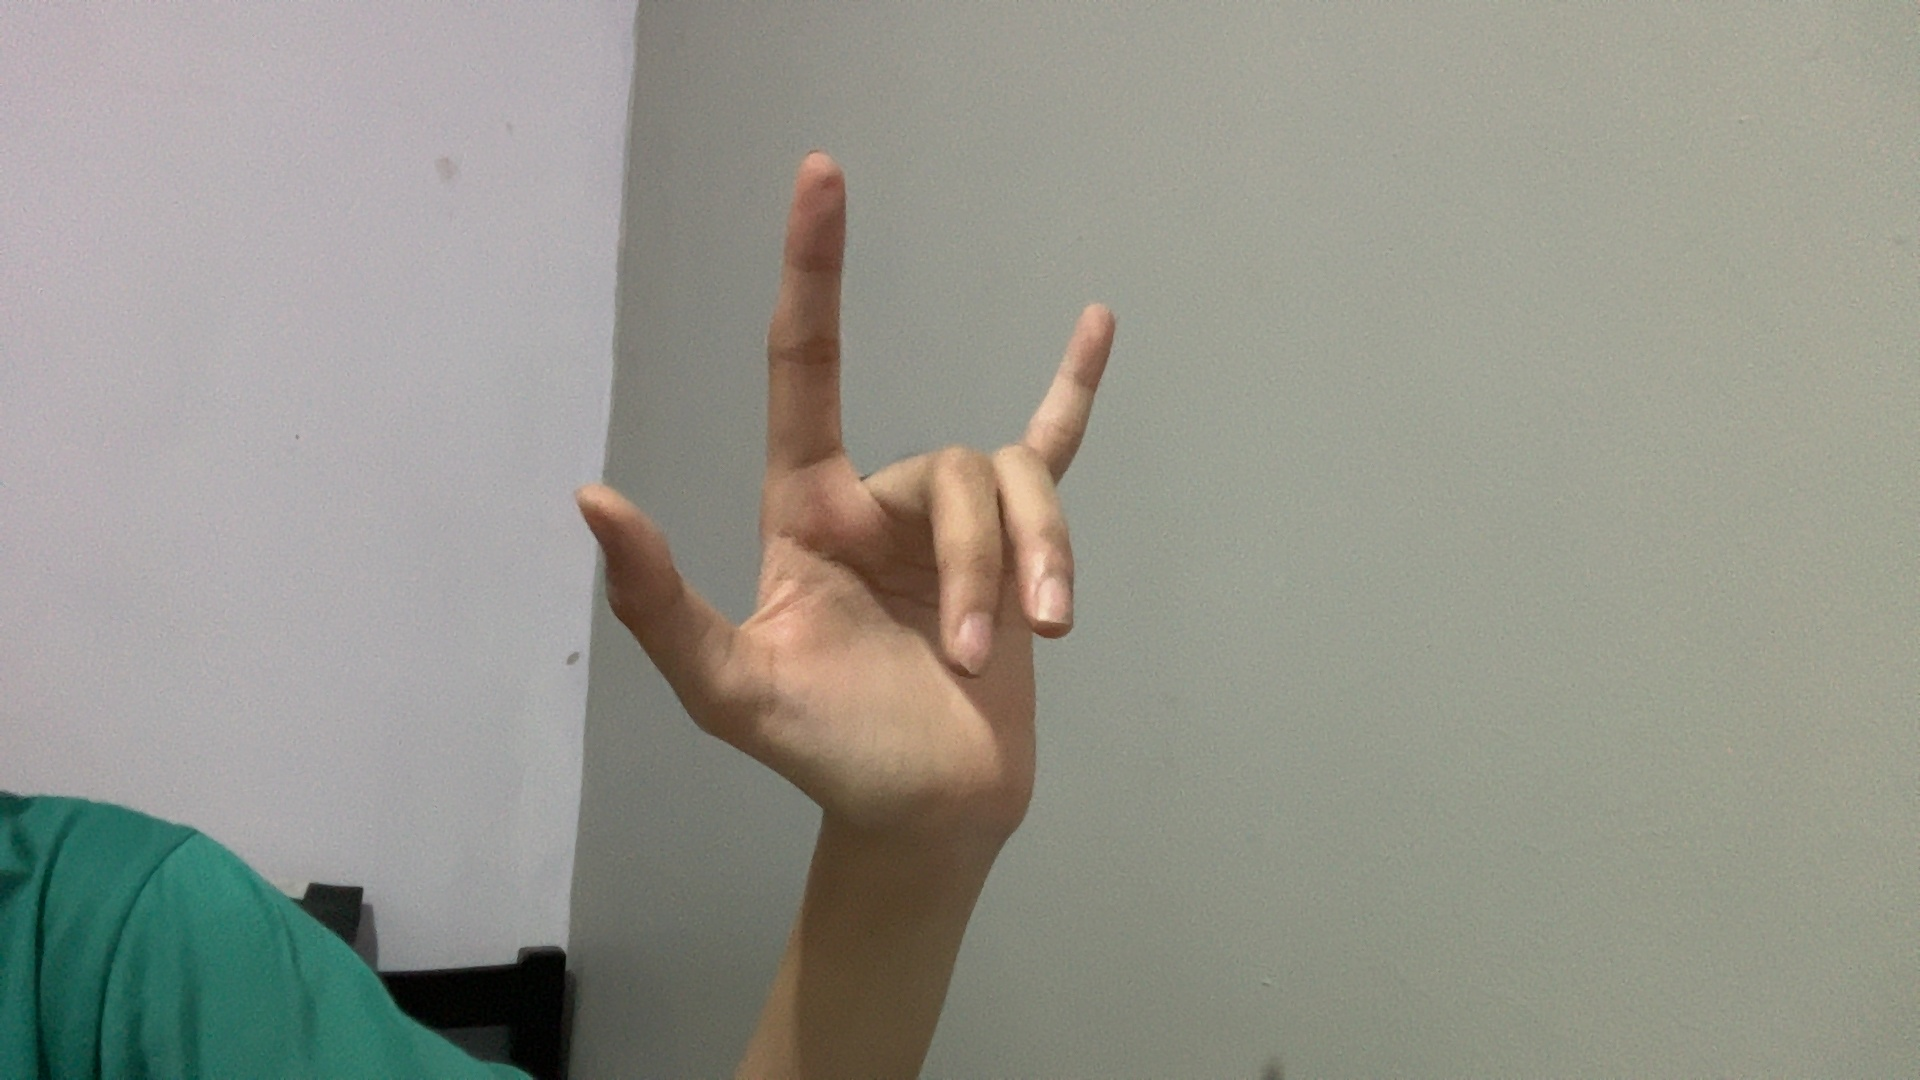I Love You: (363, 51, 1325, 936)
